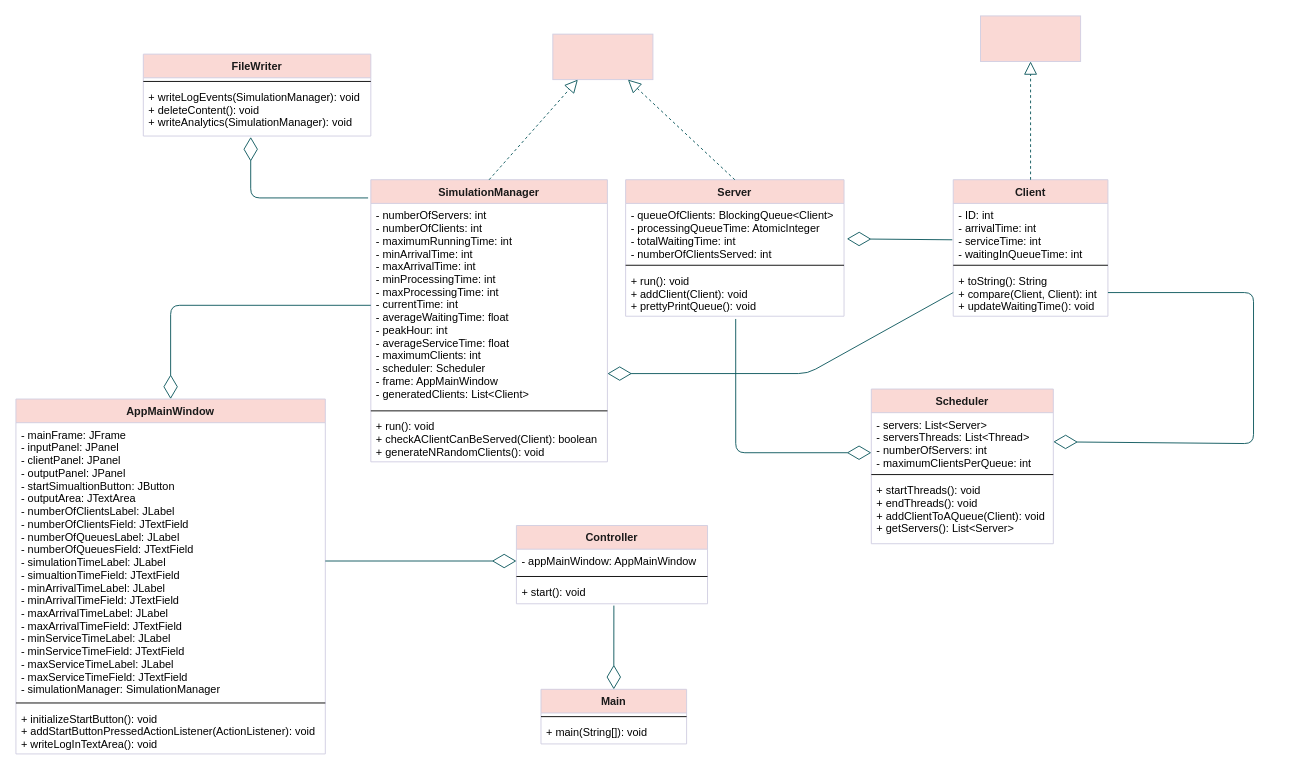
Image size: 1293x773. Some labels were removed from this diagram. The centre of each missing label's shape, as x and y in pixels:
«interface» Comparator: the point at 1030,38
«interface» Runnable: the point at 602,56
